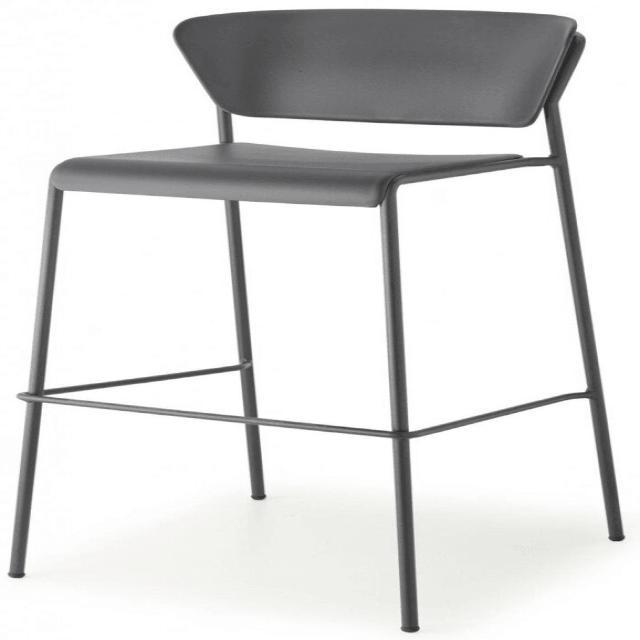chair: (4, 2, 636, 634), (31, 9, 592, 208)
